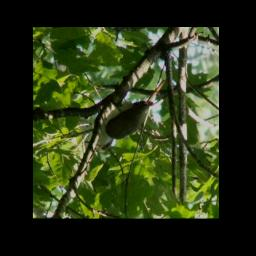Cuckoo: (93, 79, 167, 153)
